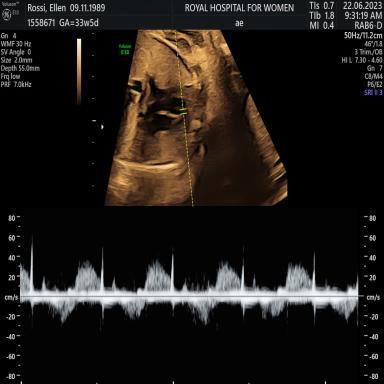Ultrasound-Waves: (28, 216, 355, 384)
